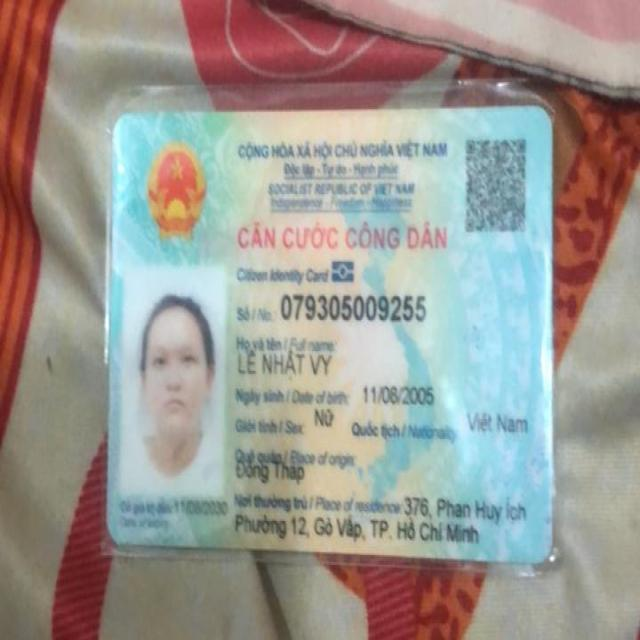bottom_left: (102, 517, 136, 558)
bottom_right: (520, 528, 563, 584)
image_person: (123, 269, 227, 506)
top_left: (100, 104, 142, 150)
top_right: (516, 96, 564, 132)
